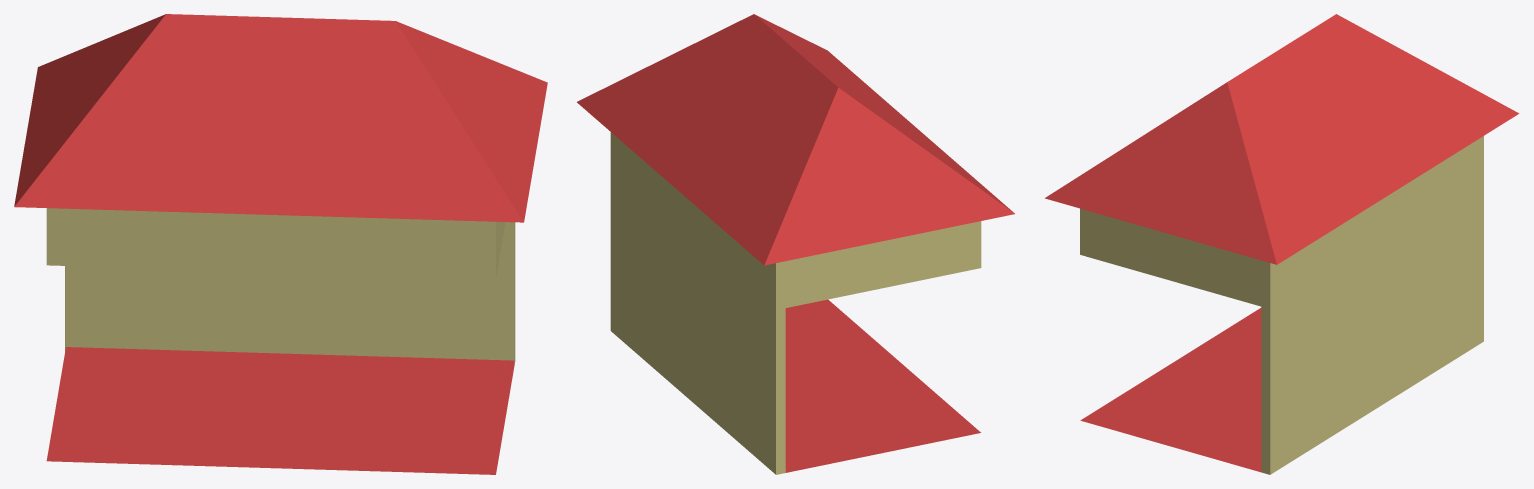
3 views of the same model, side by side, from view 1: azimuth 30°, elevation 25°; view 2: azimuth 150°, elevation 25°; view 3: azimuth 270°, elevation 25° (orthographic). The views are drawn at different scales.
Parts seen in each view (by area): view 1: group_3, group_5, group_6, group_4; view 2: group_3, group_5, group_6, group_4; view 3: group_5, group_3, group_6, group_4.
Boxes of the visible parts, <box> form: group_3: <box>14,14,547,222</box>; group_5: <box>46,208,515,365</box>; group_6: <box>46,347,514,474</box>; group_4: <box>14,79,537,222</box>; group_3: <box>577,14,1014,265</box>; group_5: <box>610,132,981,474</box>; group_6: <box>785,299,980,472</box>; group_4: <box>577,43,1014,264</box>; group_5: <box>1080,136,1483,474</box>; group_3: <box>1045,14,1517,264</box>; group_6: <box>1080,308,1261,472</box>; group_4: <box>1045,95,1518,264</box>.
Bounding box in the file's own units: 20.06 × 18.49 × 14.3.
